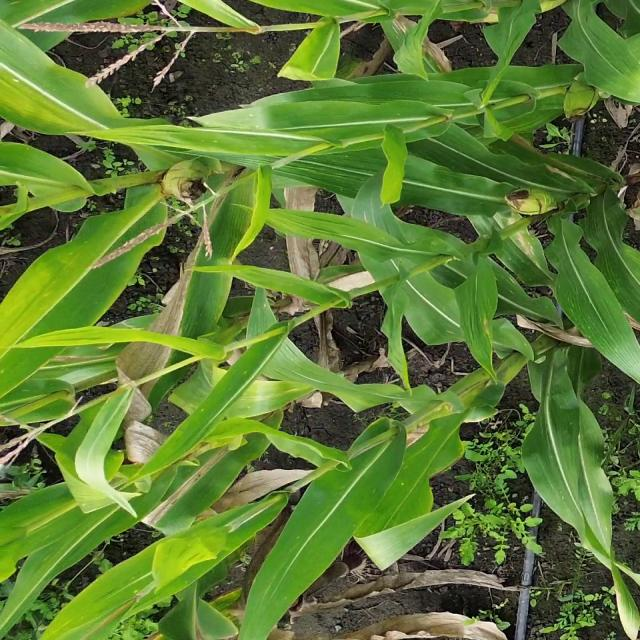gray-leaf-spot: (498, 219, 541, 269), (568, 303, 608, 351), (492, 270, 530, 300)
northern-leaf-blight: (151, 458, 220, 524), (177, 606, 229, 640)
